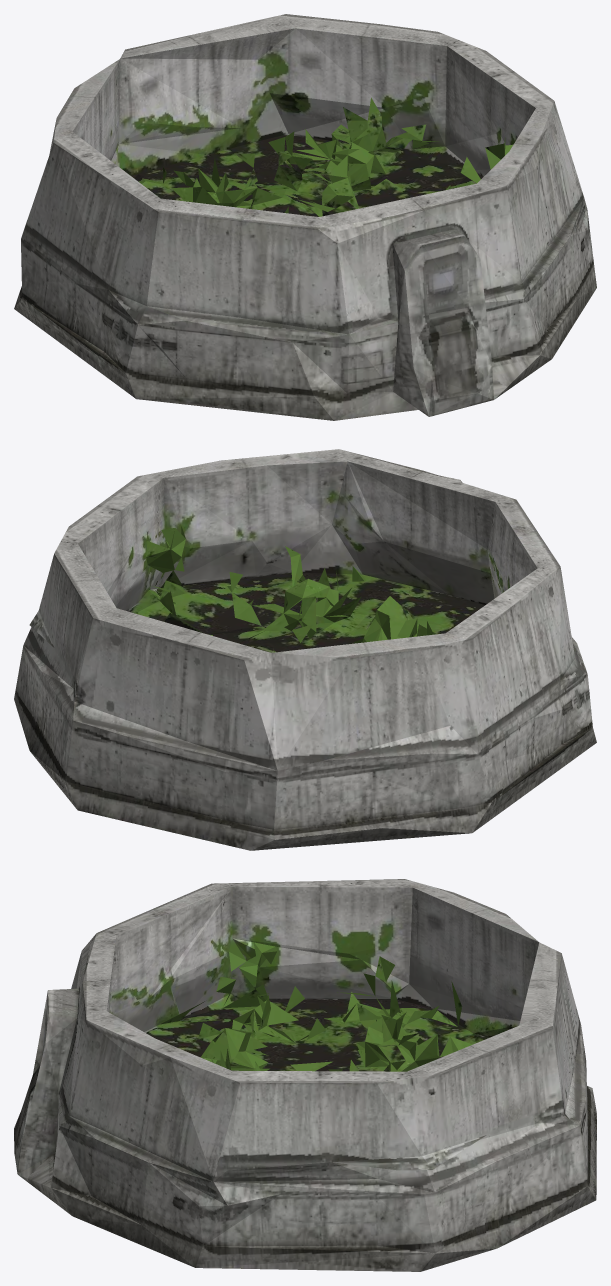
Rendered from node.food_source.glb.
3 renders of one model, top to bottom at view 1: azimuth 30°, elevation 25°; view 2: azimuth 150°, elevation 25°; view 3: azimuth 270°, elevation 25°, orthographic.
Visible parts, largest first — view 1: body; view 2: body; view 3: body.
Boxes of the visible parts, x1,y1,x2,y2 form: body: [14, 14, 596, 420]; body: [14, 449, 596, 850]; body: [14, 879, 596, 1271].
Bounding box in the file's own units: 2.05 × 0.7411 × 2.2.
1 material, 1 textured.
